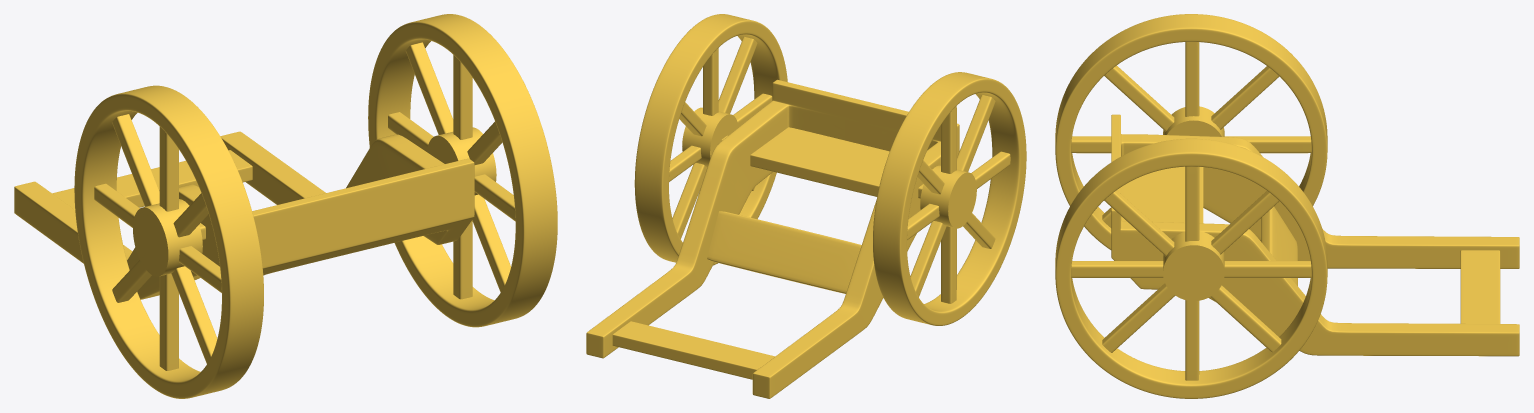
Rendered from CannonBase.glb.
The picture shows the model from 3 angles, left to right: view 1: azimuth 30°, elevation 25°; view 2: azimuth 150°, elevation 25°; view 3: azimuth 270°, elevation 25°; orthographic projection. The views are drawn at different scales.
Parts seen in each view (by area): view 1: pCylinder9, pCube3, pCylinder6, pCube14, pCube12, pCube15, pCylinder8, pCube9, pCube13, pCube10, pCube6, pCube16 (+2 smaller); view 2: pCube3, pCylinder9, pCylinder6, pCube8, pCube7, pCube6, pCube16, pCube11, pCylinder8, pCube15, pCylinder7, pCube13 (+4 smaller); view 3: pCube3, pCylinder6, pCylinder9, pCylinder7, pCube10, pCube7, pCube6, pCube11, pCube12, pCube9, pCube13, pCube14 (+4 smaller).
Part boxes in pixels (x1=…): pCylinder9: x1=74, y1=85, x2=263, y2=398; pCube3: x1=14, y1=131, x2=474, y2=299; pCylinder6: x1=368, y1=14, x2=557, y2=327; pCube14: x1=112, y1=114, x2=217, y2=363; pCube12: x1=406, y1=42, x2=510, y2=292; pCube15: x1=159, y1=126, x2=178, y2=370; pCylinder8: x1=133, y1=199, x2=202, y2=276; pCube9: x1=453, y1=55, x2=472, y2=299; pCube13: x1=94, y1=183, x2=221, y2=292; pCube10: x1=388, y1=112, x2=515, y2=221; pCube6: x1=52, y1=150, x2=252, y2=209; pCube16: x1=112, y1=193, x2=208, y2=302; pCube3: x1=586, y1=79, x2=959, y2=398; pCylinder9: x1=873, y1=72, x2=1026, y2=325; pCylinder6: x1=634, y1=14, x2=787, y2=265; pCube8: x1=707, y1=211, x2=861, y2=293; pCube7: x1=750, y1=127, x2=889, y2=196; pCube6: x1=612, y1=321, x2=774, y2=379; pCube16: x1=910, y1=95, x2=995, y2=297; pCube11: x1=672, y1=36, x2=757, y2=238; pCylinder8: x1=920, y1=165, x2=976, y2=228; pCube15: x1=941, y1=106, x2=956, y2=303; pCylinder7: x1=682, y1=107, x2=738, y2=167; pCube13: x1=907, y1=151, x2=1010, y2=239; pCube3: x1=1111, y1=114, x2=1519, y2=356; pCylinder6: x1=1055, y1=138, x2=1327, y2=398; pCylinder9: x1=1055, y1=14, x2=1327, y2=249; pCylinder7: x1=1163, y1=231, x2=1224, y2=300; pCube10: x1=1071, y1=261, x2=1311, y2=277; pCube7: x1=1121, y1=166, x2=1203, y2=223; pCube6: x1=1460, y1=250, x2=1500, y2=323; pCube11: x1=1104, y1=190, x2=1281, y2=352; pCube12: x1=1102, y1=191, x2=1279, y2=352; pCube9: x1=1185, y1=166, x2=1199, y2=380; pCube13: x1=1071, y1=136, x2=1311, y2=153; pCube14: x1=1102, y1=66, x2=1279, y2=227.
Size of the model in its own units: 8.33 by 6.88 by 11.73.
